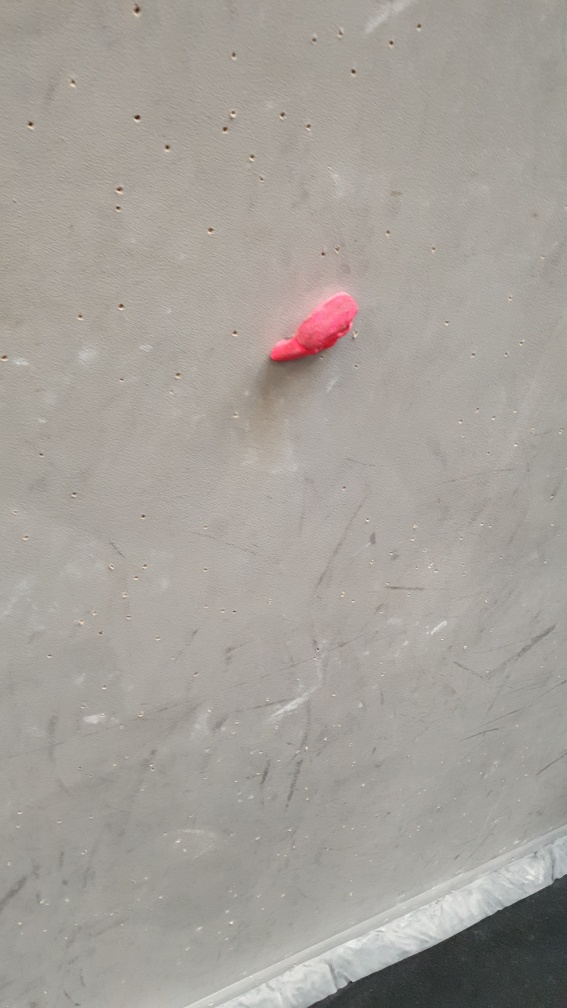Jug: (267, 290, 359, 369)
